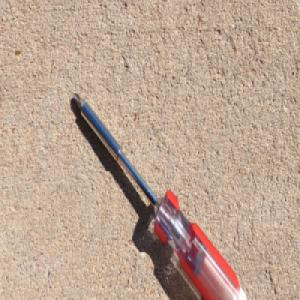Screwdriver: (71, 89, 248, 300)
